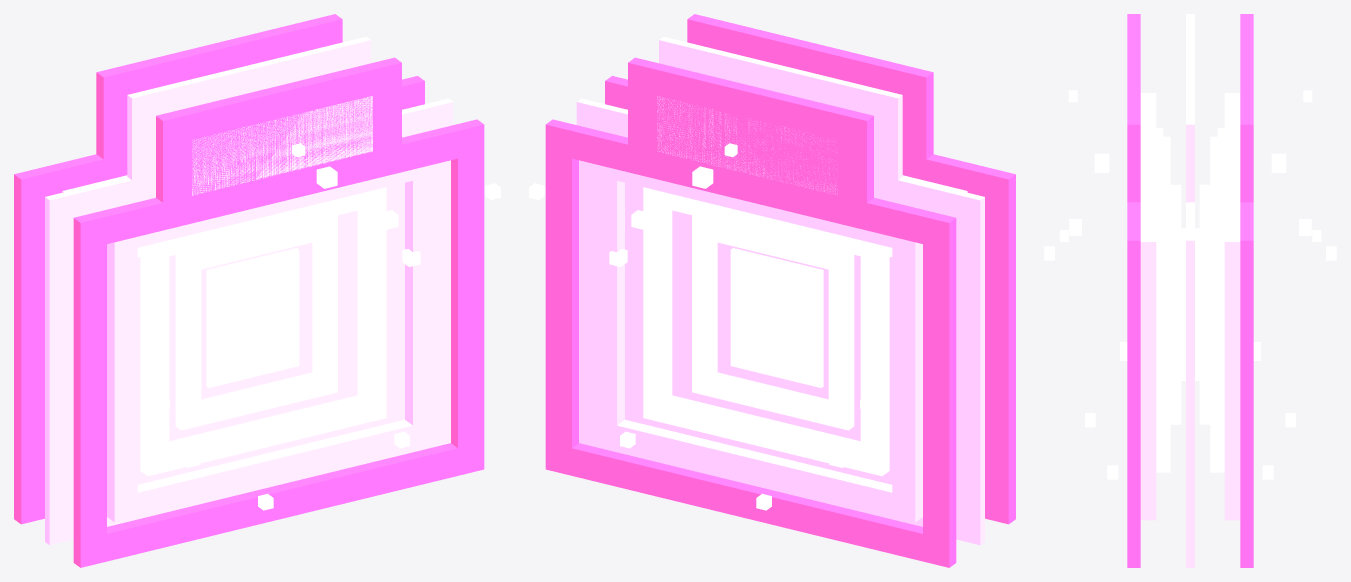
The model's file is tt-portal-pink.glb.
The picture shows the model from 3 angles, left to right: view 1: azimuth 30°, elevation 25°; view 2: azimuth 150°, elevation 25°; view 3: azimuth 270°, elevation 25°; orthographic projection. The views are drawn at different scales.
Parts seen in each view (by area): view 1: box-prop; view 2: box-prop; view 3: box-prop.
Boxes of the visible parts, bbox=[...] form: box-prop: bbox=[14, 14, 500, 567]; box-prop: bbox=[529, 14, 1015, 567]; box-prop: bbox=[1044, 14, 1336, 567].
Size of the model in its own units: 4.9 by 4.95 by 3.24.
